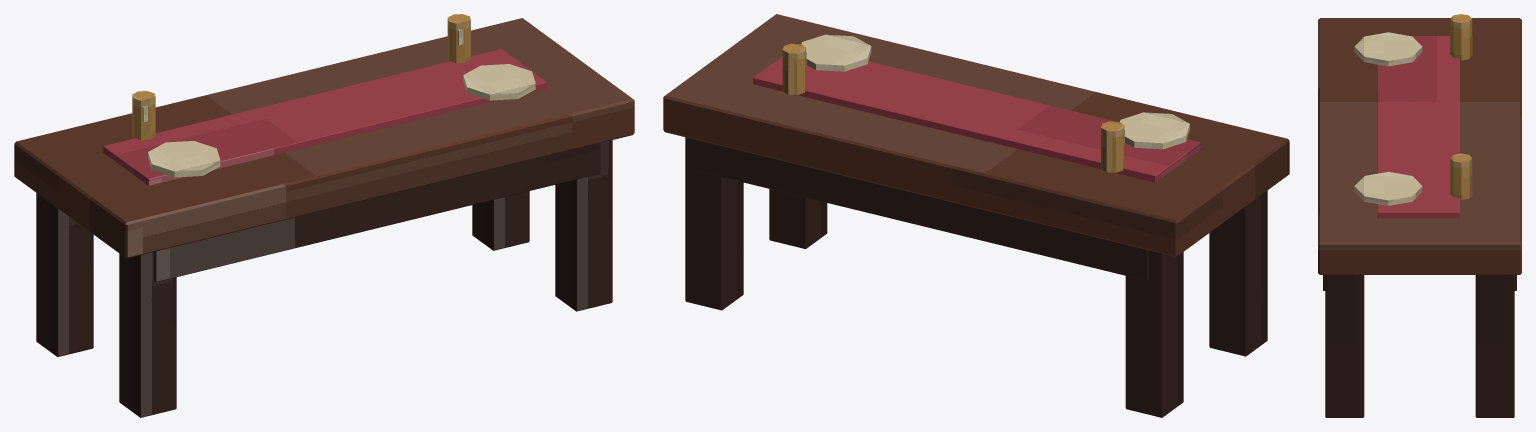
File: grand_dining_table.glb
3 renders of one model, left to right at view 1: azimuth 30°, elevation 25°; view 2: azimuth 150°, elevation 25°; view 3: azimuth 270°, elevation 25°, orthographic. The views are drawn at different scales.
Parts seen in each view (by area): view 1: DiningTop, BurgundyRunner, LongApronFront, Leg_L_F, Leg_L_B, Leg_R_F, Leg_R_B, Plate_2, Plate_1, Goblet_1, Goblet_2; view 2: DiningTop, BurgundyRunner, LongApronBack, Leg_L_B, Leg_L_F, Leg_R_B, Leg_R_F, Plate_2, Plate_1, Goblet_1, Goblet_2; view 3: DiningTop, BurgundyRunner, Leg_R_B, Leg_R_F, Plate_1, Plate_2, Goblet_1, Goblet_2.
Boxes of the visible parts, x1,y1,x2,y2 form: DiningTop: (14,18,634,258); BurgundyRunner: (103,49,546,185); LongApronFront: (154,143,600,281); Leg_L_F: (119,252,176,417); Leg_L_B: (36,193,93,356); Leg_R_F: (555,140,612,311); Leg_R_B: (472,191,529,250); Plate_2: (463,64,535,100); Plate_1: (148,141,220,177); Goblet_1: (132,91,155,139); Goblet_2: (447,14,470,63); DiningTop: (663,14,1289,256); BurgundyRunner: (753,56,1201,182); LongApronBack: (698,140,1148,280); Leg_L_B: (1125,250,1183,417); Leg_L_F: (1209,190,1267,356); Leg_R_B: (685,137,743,310); Leg_R_F: (769,189,827,248); Plate_2: (801,34,871,71); Plate_1: (1120,112,1189,149); Goblet_1: (1101,121,1124,172); Goblet_2: (782,43,805,95); DiningTop: (1318,18,1521,274); BurgundyRunner: (1377,36,1459,218); Leg_R_B: (1475,275,1514,417); Leg_R_F: (1325,275,1364,417); Plate_1: (1354,32,1422,66); Plate_2: (1354,171,1422,205); Goblet_1: (1450,14,1472,60); Goblet_2: (1450,153,1472,199).
Size of the model in its own units: 2.2 by 1.02 by 0.84.
1 material, 1 textured.
